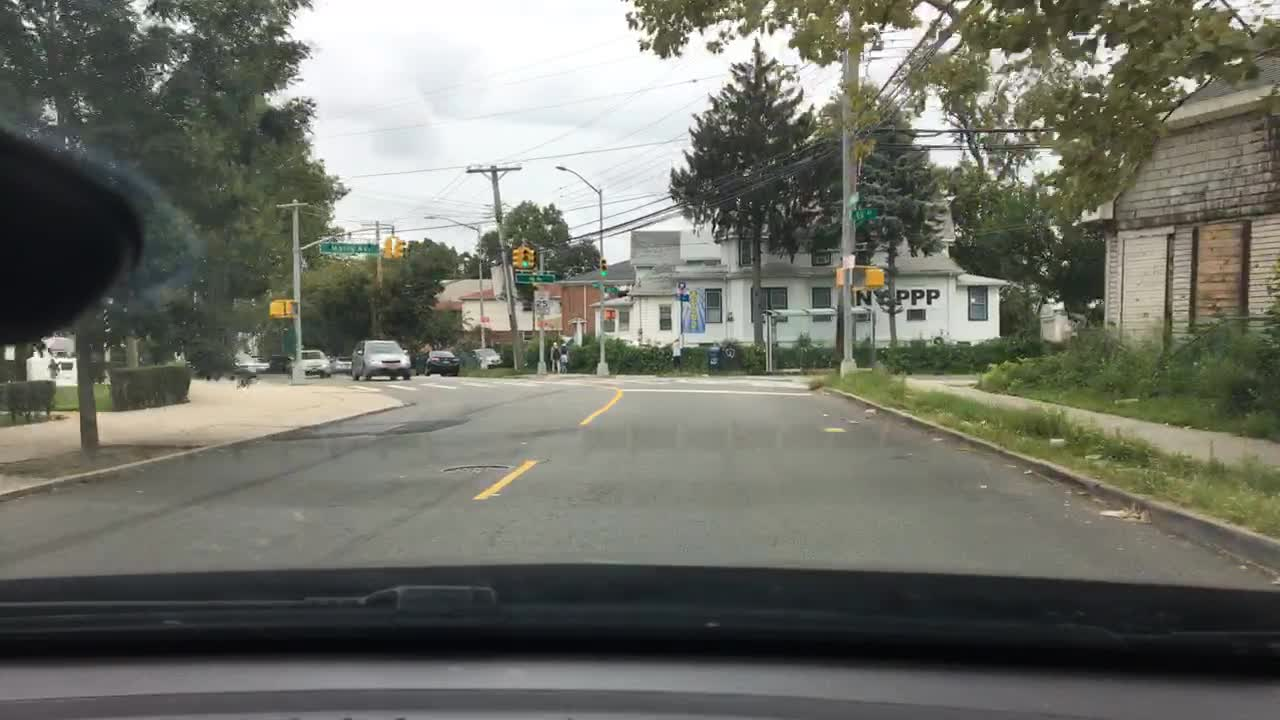car: (349, 340, 411, 379), (413, 348, 457, 376), (300, 348, 326, 381), (470, 346, 500, 366), (269, 355, 294, 371), (330, 355, 350, 373)
person: (549, 338, 560, 371), (561, 340, 571, 370)
traffic light: (268, 298, 284, 318), (865, 269, 882, 283), (835, 265, 845, 288), (395, 238, 406, 258), (511, 245, 521, 265), (529, 247, 539, 267), (286, 299, 298, 315), (519, 244, 527, 267), (600, 258, 607, 279), (385, 237, 391, 259)
traffic sign: (318, 243, 383, 253), (673, 273, 692, 304), (534, 289, 549, 313), (515, 273, 556, 281), (852, 207, 875, 219), (847, 192, 857, 210), (587, 279, 600, 289), (603, 286, 616, 294)
